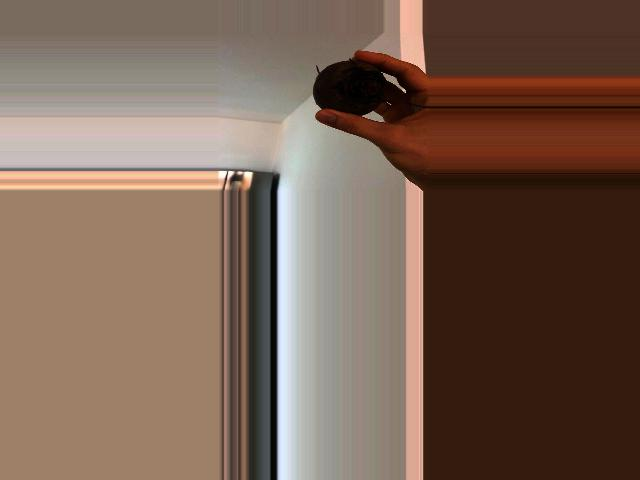beet: (312, 58, 428, 117)
